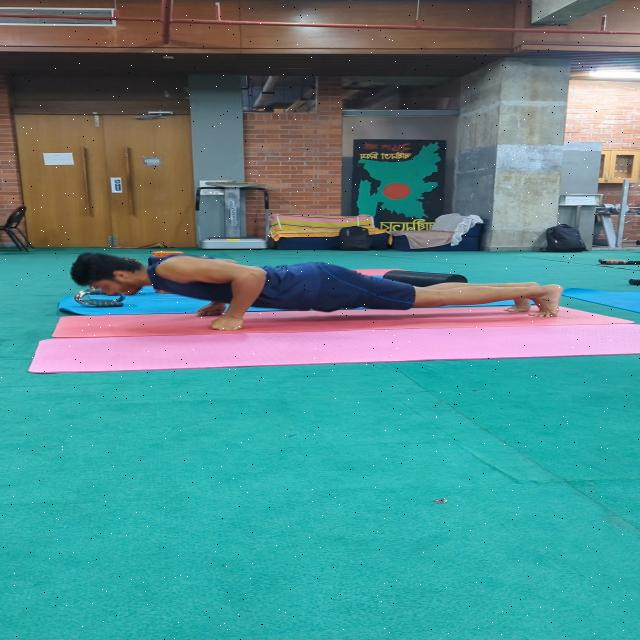Normal_PushUps: (59, 248, 581, 355)
